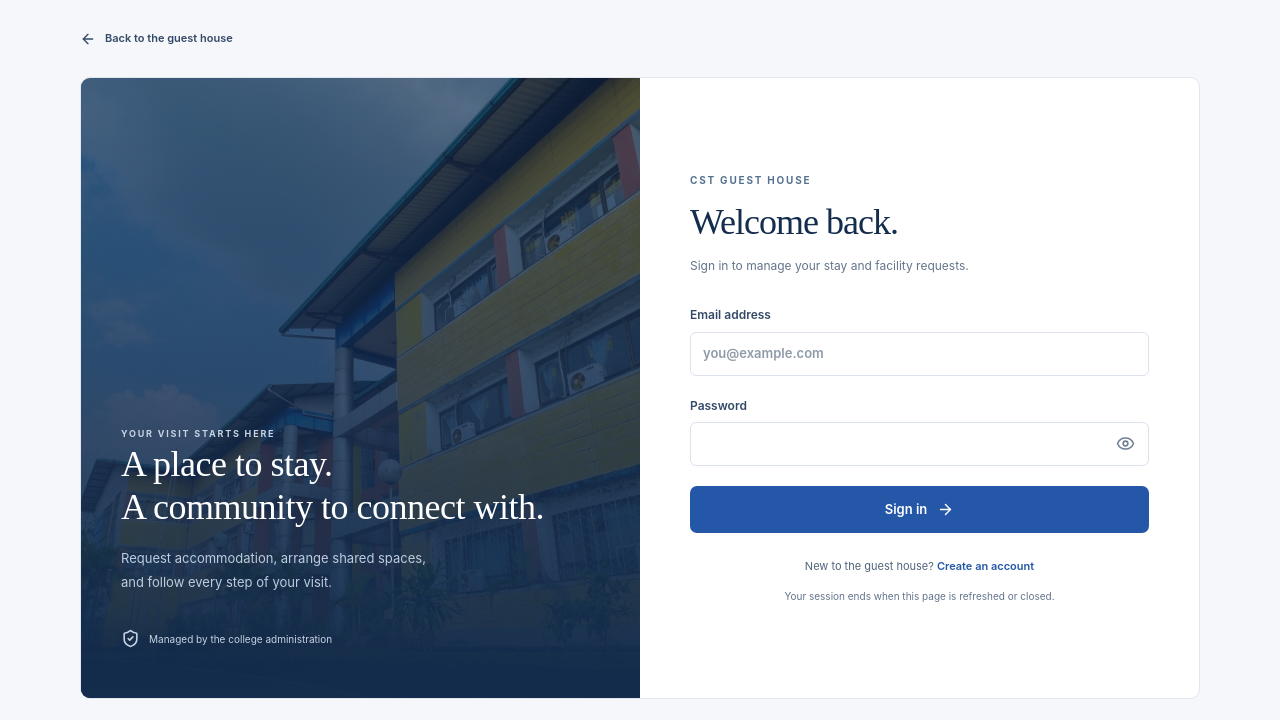
Test: Authentication and routes › shows server login errors and permits password visibility toggle
Type "visitor@example.test" into the field labelled "Email address". click: (920, 354)
box: x1=690 y1=332 x2=1149 y2=376
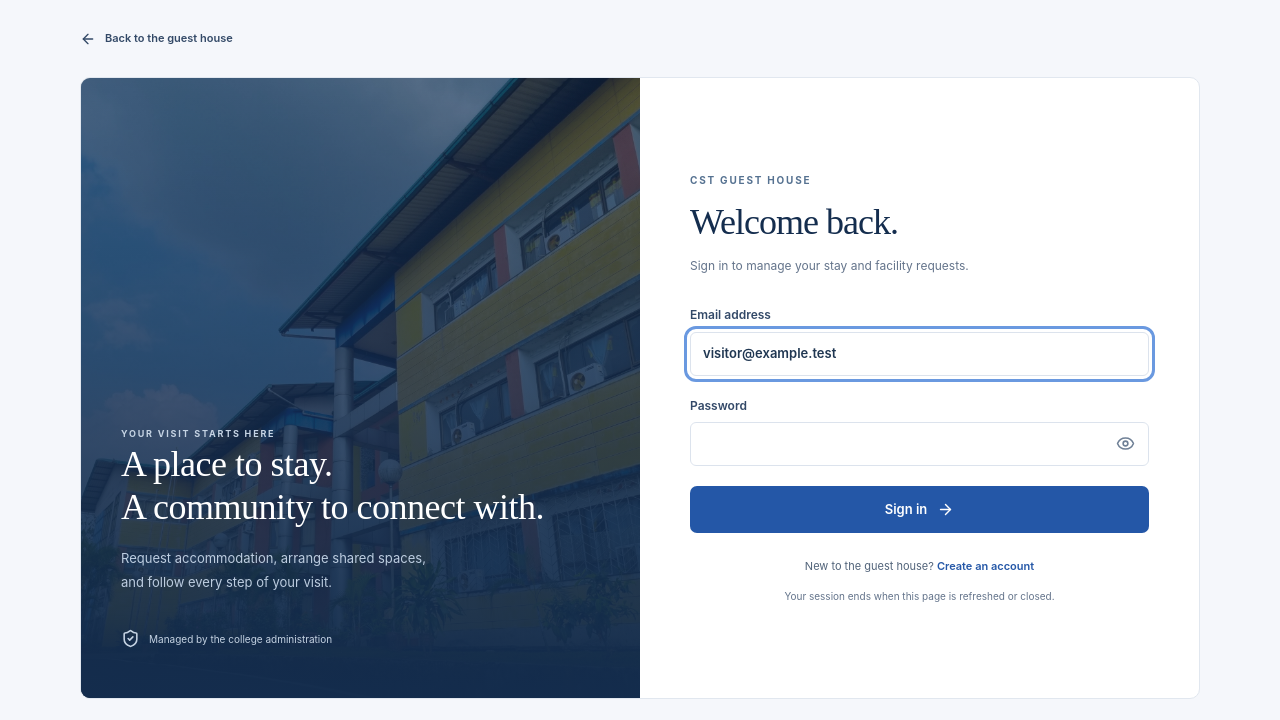
Type "incorrect-password" into the password field labelled "Password". click: (920, 444)
box: x1=690 y1=422 x2=1149 y2=466
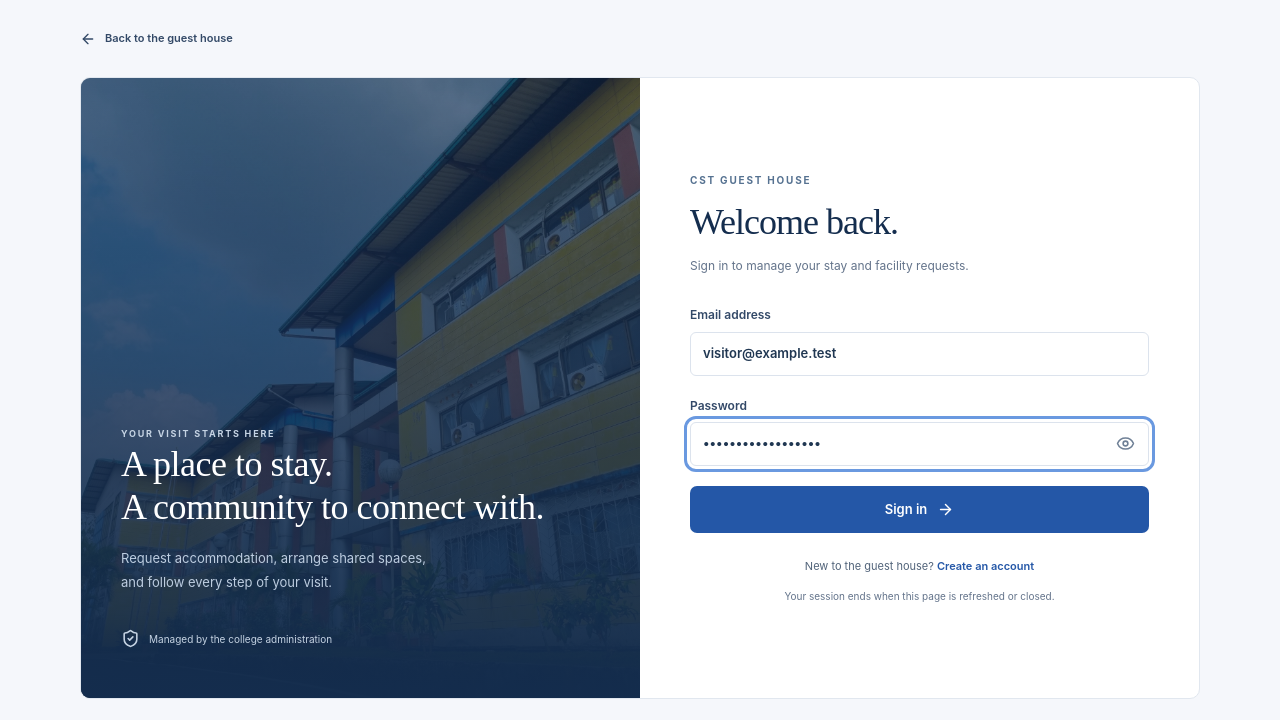
Click the button named "Show password". click: (1125, 444)
box: x1=1106 y1=425 x2=1144 y2=463
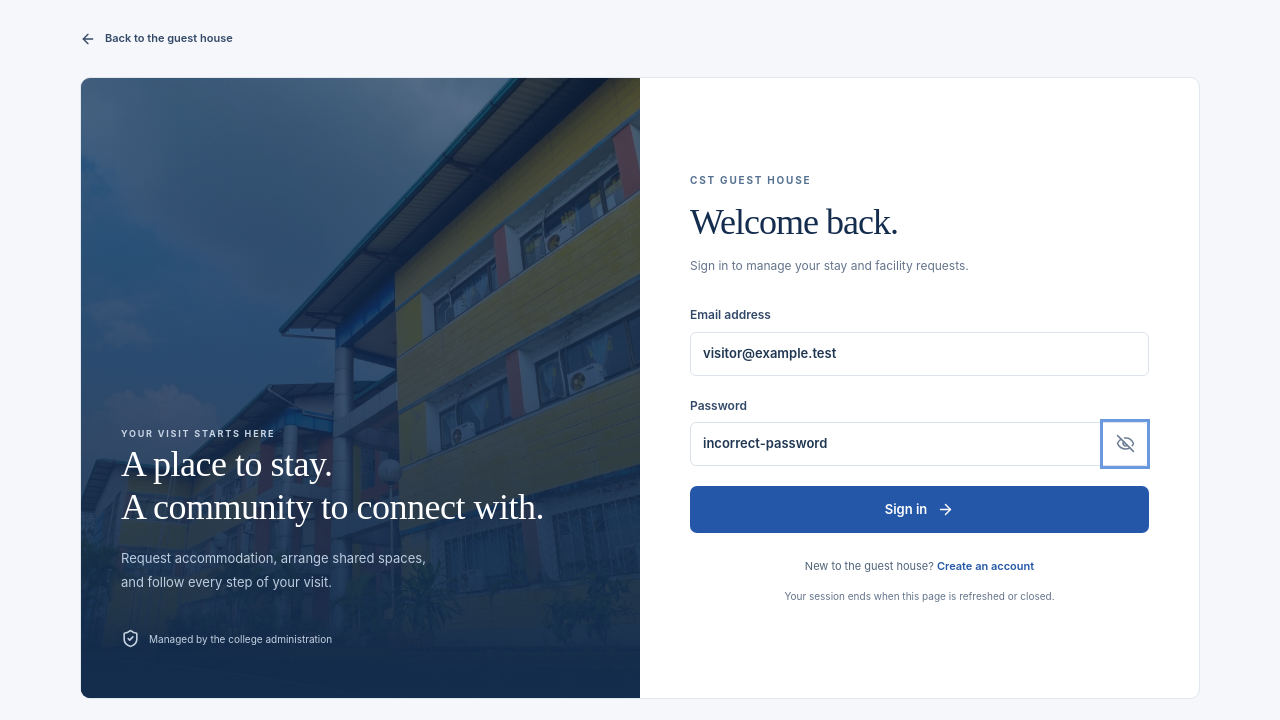
Expected: the field labelled "Password" shows its text, x1=690 y1=422 x2=1149 y2=466
Click the button "Sign in". click: (920, 509)
box: x1=690 y1=486 x2=1149 y2=533
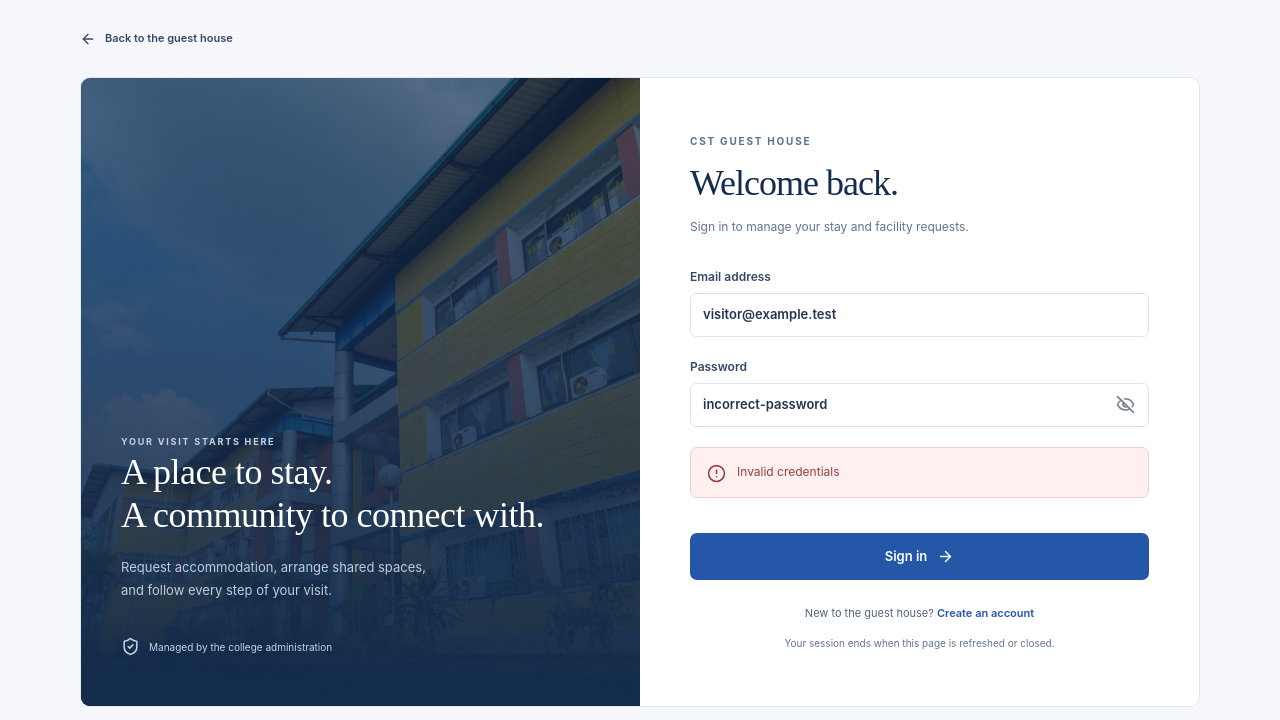
Expected: the button "Sign in" is enabled, x1=690 y1=533 x2=1149 y2=580
Expected: the message reads "Invalid credentials", x1=737 y1=464 x2=840 y2=479
